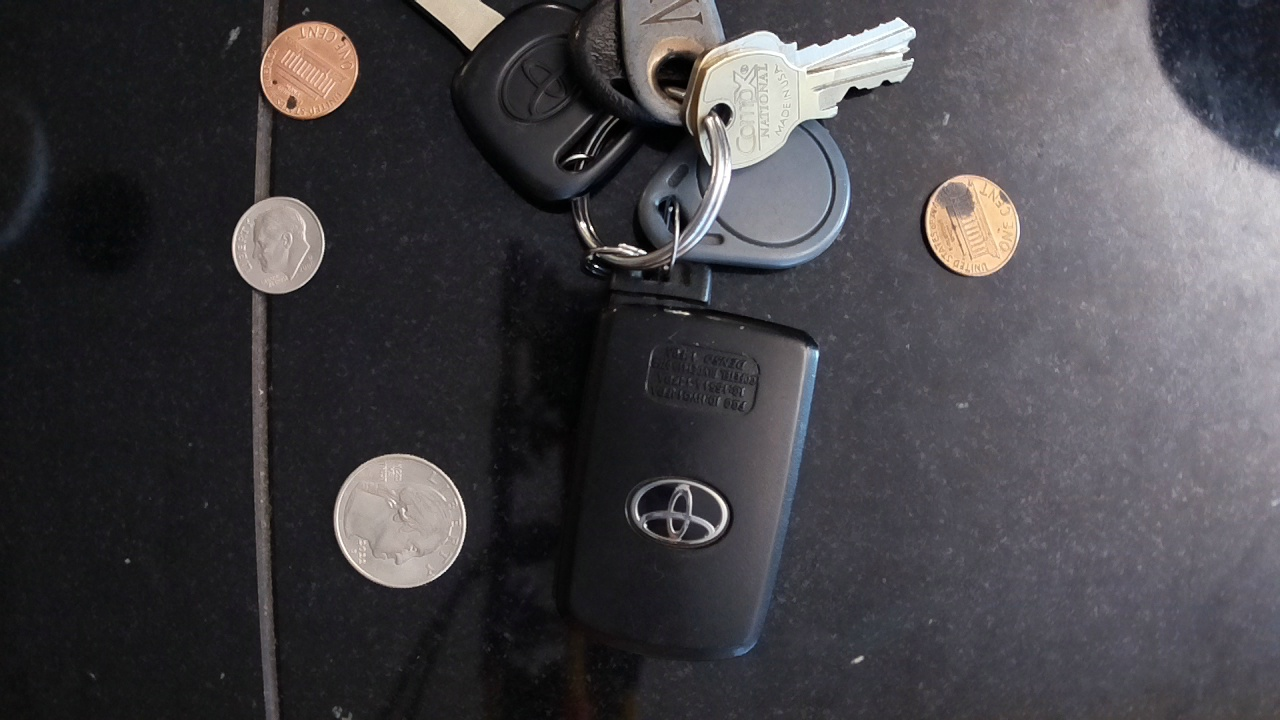dime: (228, 194, 328, 298)
penny: (256, 16, 362, 124), (919, 171, 1023, 281)
quarter: (331, 447, 467, 593)
